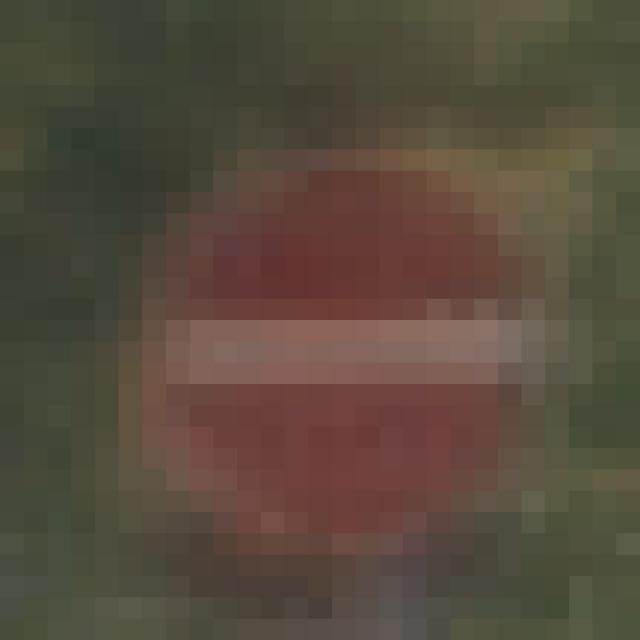No Entry: (120, 108, 523, 513)
